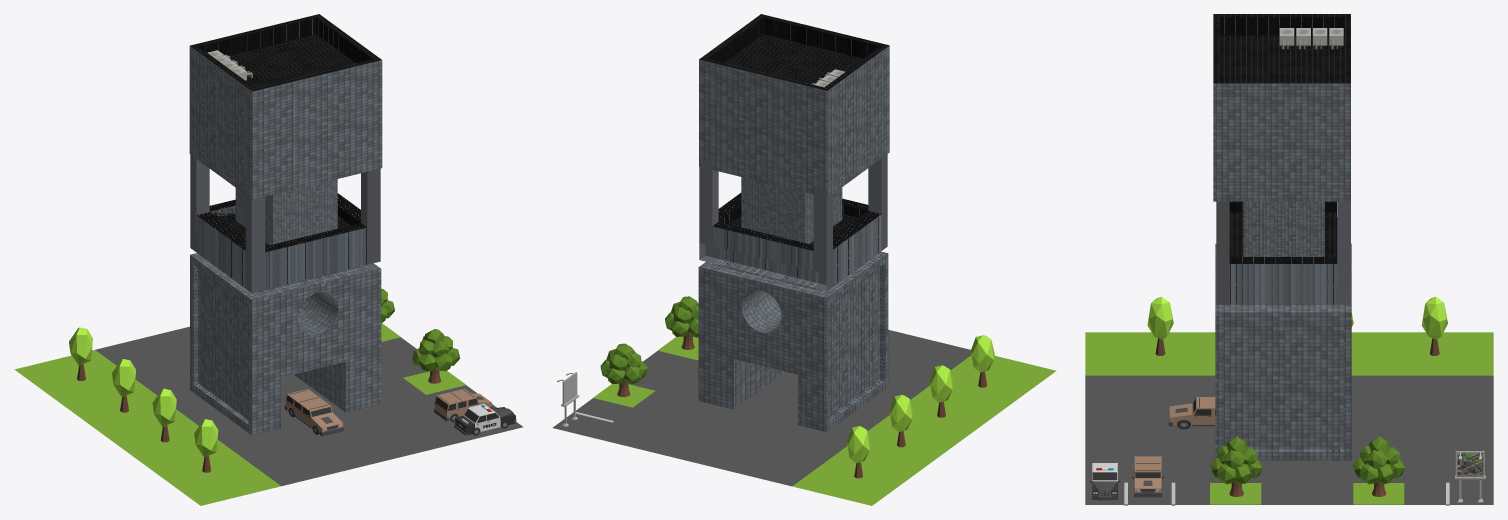
Rendered from fastfood.gltf.
3 renders of one model, left to right at view 1: azimuth 30°, elevation 25°; view 2: azimuth 150°, elevation 25°; view 3: azimuth 270°, elevation 25°, orthographic. The views are drawn at different scales.
Visible parts, largest first — view 1: Cube001, Road_Tile_Plane003, Natures_Grass_Tile_Plane010, Cube001_1, Vehicle_SUV_Cube096, Natures_Big_Tree_Mesh008, Vehicle_Police_Car_Cube036, Vehicle_SUV_Cube001, Natures_Bush_01_Cylinder002, Natures_Bush_01_Cylinder, Natures_Bush_01_Cylinder001, Natures_Bush_01_Cylinder003 (+1 smaller); view 2: Cube001, Road_Tile_Plane003, Natures_Grass_Tile_Plane010, Cube001_1, Natures_Big_Tree_Mesh001, Natures_Big_Tree_Mesh008, Natures_Bush_01_Cylinder002, Natures_Bush_01_Cylinder003, Natures_Bush_01_Cylinder, Natures_Bush_01_Cylinder001, Natures_Grass_Tile_Small_Plane010, Props_BillBoard_medium_Cube543; view 3: Cube001, Road_Tile_Plane003, Natures_Grass_Tile_Plane010, Cube001_1, Natures_Big_Tree_Mesh001, Natures_Big_Tree_Mesh008, Vehicle_SUV_Cube096, Vehicle_SUV_Cube001, Props_Roof_prop_air_Cylinder034, Props_BillBoard_medium_Cube543, Vehicle_Police_Car_Cube036, Natures_Grass_Tile_Small_Plane010 (+3 smaller).
Part boxes in pixels (left/top/right/bottom): Cube001: left=189, top=46, right=382, bottom=435; Road_Tile_Plane003: left=95, top=326, right=523, bottom=486; Natures_Grass_Tile_Plane010: left=14, top=350, right=280, bottom=505; Cube001_1: left=190, top=14, right=381, bottom=252; Vehicle_SUV_Cube096: left=284, top=389, right=343, bottom=436; Natures_Big_Tree_Mesh008: left=412, top=329, right=460, bottom=383; Vehicle_Police_Car_Cube036: left=454, top=404, right=516, bottom=435; Vehicle_SUV_Cube001: left=434, top=388, right=492, bottom=422; Natures_Bush_01_Cylinder002: left=152, top=388, right=176, bottom=442; Natures_Bush_01_Cylinder: left=69, top=327, right=92, bottom=380; Natures_Bush_01_Cylinder001: left=194, top=419, right=218, bottom=472; Natures_Bush_01_Cylinder003: left=112, top=359, right=135, bottom=412; Cube001: left=698, top=45, right=889, bottom=431; Road_Tile_Plane003: left=552, top=330, right=971, bottom=486; Natures_Grass_Tile_Plane010: left=792, top=355, right=1056, bottom=505; Cube001_1: left=699, top=14, right=889, bottom=250; Natures_Big_Tree_Mesh001: left=600, top=343, right=648, bottom=397; Natures_Big_Tree_Mesh008: left=665, top=296, right=698, bottom=349; Natures_Bush_01_Cylinder002: left=929, top=365, right=953, bottom=417; Natures_Bush_01_Cylinder003: left=889, top=395, right=913, bottom=447; Natures_Bush_01_Cylinder: left=846, top=426, right=870, bottom=478; Natures_Bush_01_Cylinder001: left=970, top=335, right=994, bottom=387; Natures_Grass_Tile_Small_Plane010: left=593, top=383, right=655, bottom=407; Props_BillBoard_medium_Cube543: left=557, top=372, right=579, bottom=426; Cube001: left=1213, top=83, right=1351, bottom=460; Road_Tile_Plane003: left=1085, top=375, right=1493, bottom=504; Natures_Grass_Tile_Plane010: left=1085, top=332, right=1493, bottom=375; Cube001_1: left=1213, top=14, right=1350, bottom=263; Natures_Big_Tree_Mesh001: left=1352, top=436, right=1404, bottom=496; Natures_Big_Tree_Mesh008: left=1210, top=436, right=1262, bottom=496; Vehicle_SUV_Cube096: left=1168, top=397, right=1215, bottom=429; Vehicle_SUV_Cube001: left=1132, top=456, right=1163, bottom=497; Props_Roof_prop_air_Cylinder034: left=1279, top=28, right=1343, bottom=49; Props_BillBoard_medium_Cube543: left=1455, top=451, right=1485, bottom=502; Vehicle_Police_Car_Cube036: left=1090, top=463, right=1120, bottom=500; Natures_Grass_Tile_Small_Plane010: left=1353, top=483, right=1404, bottom=504.
Size of the model in its own units: 40.15 by 40.88 by 40.
Materials: 16 (16 with a texture image).
